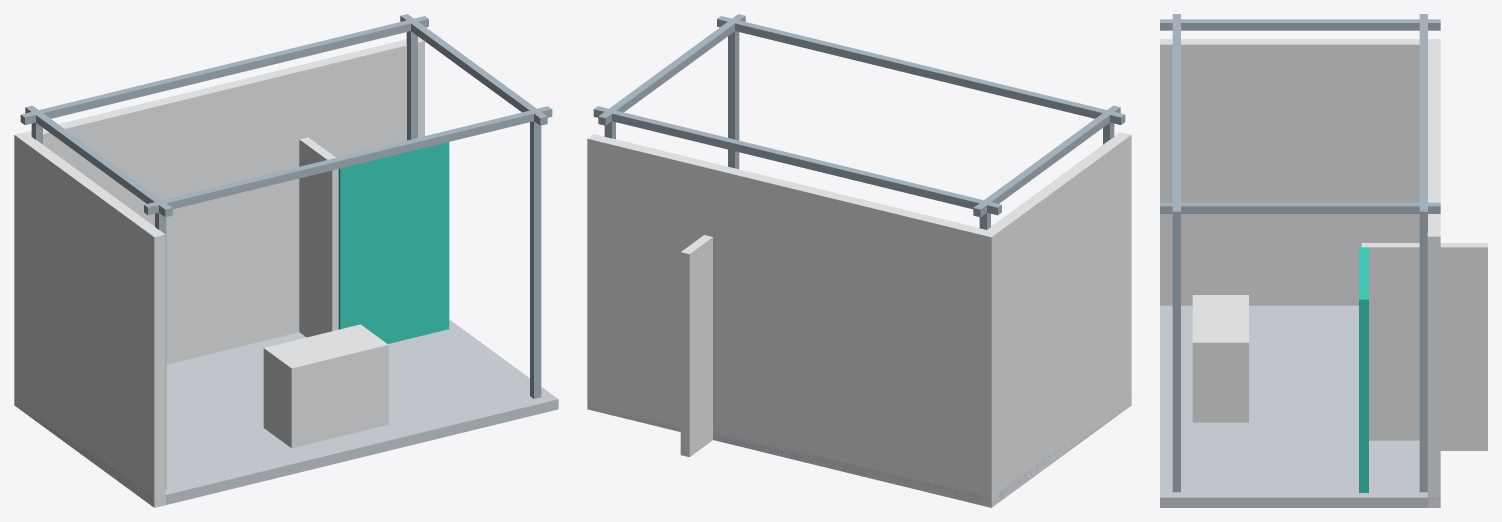
The picture shows the model from 3 angles, left to right: view 1: azimuth 30°, elevation 25°; view 2: azimuth 150°, elevation 25°; view 3: azimuth 270°, elevation 25°; orthographic projection.
Visible parts, largest first — view 1: Exhibition Booth Concept; view 2: Exhibition Booth Concept; view 3: Exhibition Booth Concept.
Boxes of the visible parts, x1,y1,x2,y2 form: Exhibition Booth Concept: [14, 14, 558, 507]; Exhibition Booth Concept: [587, 14, 1131, 507]; Exhibition Booth Concept: [1160, 14, 1487, 507].
Size of the model in its own units: 5 by 3.49 by 3.51.
